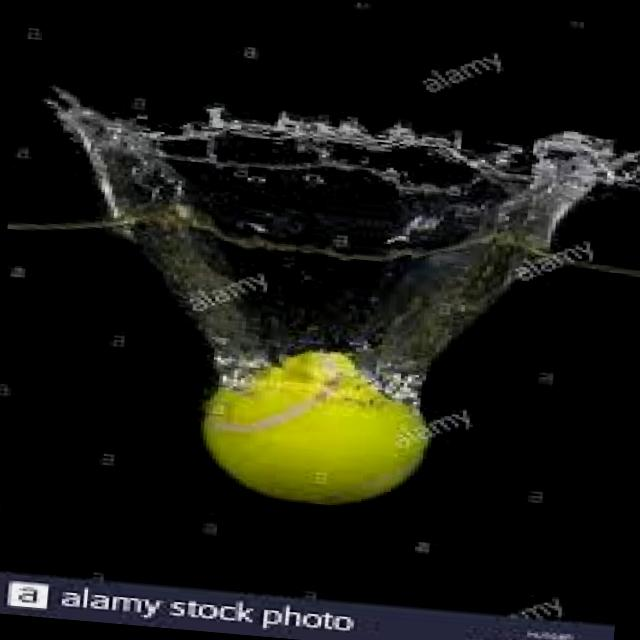Tennis Ball: (200, 342, 438, 511)
